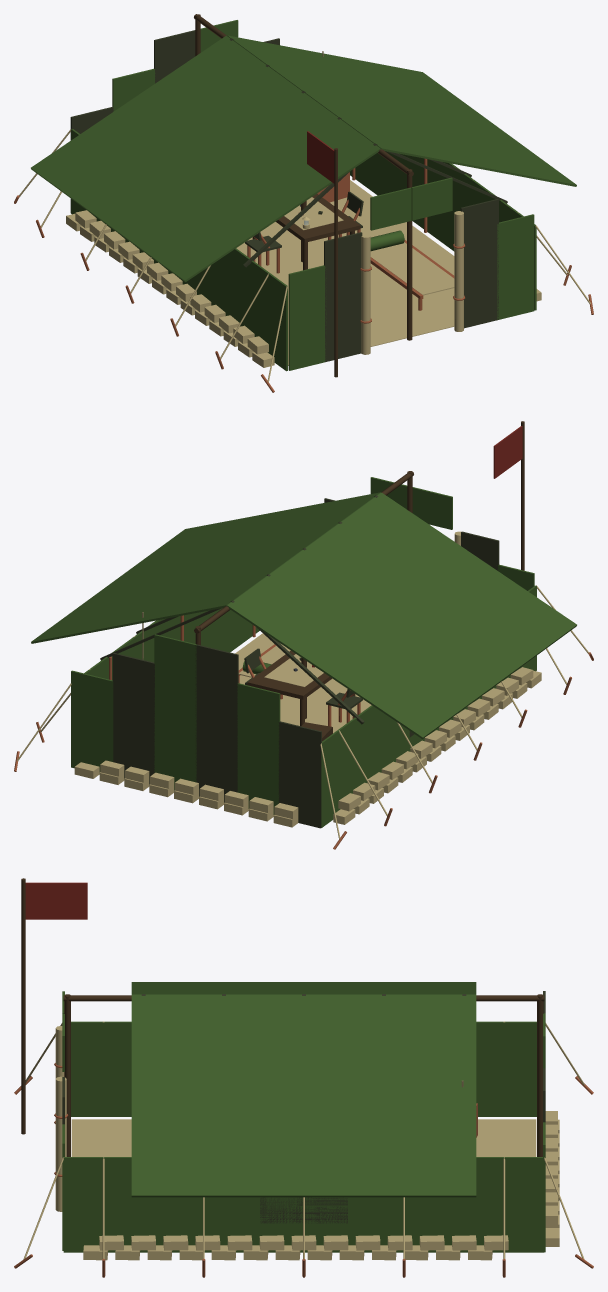
The model's file is military-command-tent.glb.
The picture shows the model from 3 angles, top to bottom: view 1: azimuth 30°, elevation 25°; view 2: azimuth 150°, elevation 25°; view 3: azimuth 270°, elevation 25°; orthographic projection. The views are drawn at different scales.
Visible parts, largest first — view 1: Mesh_RoofA, Mesh_RoofB, Mesh_FloorTarp, Mesh_WallRight, Mesh_WallLeft, Mesh_FrontWallPanel_1, Mesh_FrontWallPanel_2, Mesh_FrontWallPanel_0, Mesh_FrontWallPanel_3, Mesh_CotCanvas, Mesh_BackWallPanel_3, Mesh_FrontGableCenterR (+12 smaller); view 2: Mesh_RoofA, Mesh_RoofB, Mesh_BackWallPanel_2, Mesh_BackWallPanel_3, Mesh_WallRight, Mesh_BackWallPanel_4, Mesh_BackWallPanel_1, Mesh_BackWallPanel_5, Mesh_BackWallPanel_0, Mesh_WallLeft, Mesh_FloorTarp, Mesh_FrontGableCenterR (+7 smaller); view 3: Mesh_RoofB, Mesh_WallLeft, Mesh_WallRight, Mesh_FloorTarp, Mesh_RoofA, Mesh_FlagCanvas, Mesh_WindowHoleLeft, Mesh_FlagPole, Mesh_FrontRollL, Mesh_PoleUprightBack, Mesh_PoleRidge, Mesh_PoleUprightFront.
Boxes of the visible parts, box(x1,y1,x2,y2) form: Mesh_RoofA: box(31, 35, 380, 282); Mesh_RoofB: box(227, 35, 576, 186); Mesh_FloorTarp: box(236, 180, 454, 365); Mesh_WallRight: box(71, 129, 287, 371); Mesh_WallLeft: box(350, 151, 536, 310); Mesh_FrontWallPanel_1: box(460, 199, 498, 328); Mesh_FrontWallPanel_2: box(324, 232, 362, 362); Mesh_FrontWallPanel_0: box(497, 214, 534, 319); Mesh_FrontWallPanel_3: box(288, 265, 326, 370); Mesh_CotCanvas: box(370, 242, 454, 295); Mesh_BackWallPanel_3: box(154, 30, 195, 83); Mesh_FrontGableCenterR: box(370, 187, 411, 230); Mesh_RoofA: box(227, 492, 576, 739); Mesh_RoofB: box(31, 492, 380, 643); Mesh_BackWallPanel_2: box(154, 634, 196, 790); Mesh_BackWallPanel_3: box(195, 644, 238, 802); Mesh_WallRight: box(321, 585, 536, 827); Mesh_BackWallPanel_4: box(237, 683, 280, 814); Mesh_BackWallPanel_1: box(112, 653, 154, 784); Mesh_BackWallPanel_5: box(278, 721, 321, 828); Mesh_BackWallPanel_0: box(71, 670, 113, 772); Mesh_WallLeft: box(84, 608, 259, 680); Mesh_FloorTarp: box(235, 633, 371, 733); Mesh_FrontGableCenterR: box(412, 487, 452, 529); Mesh_RoofB: box(131, 994, 476, 1197); Mesh_WallLeft: box(63, 1157, 544, 1252); Mesh_WallRight: box(71, 1021, 536, 1116); Mesh_FloorTarp: box(71, 1119, 536, 1156); Mesh_RoofA: box(131, 982, 476, 994); Mesh_FlagCanvas: box(25, 882, 87, 919); Mesh_WindowHoleLeft: box(260, 1197, 347, 1223); Mesh_FlagPole: box(21, 878, 25, 1134); Mesh_FrontRollL: box(55, 1076, 66, 1211); Mesh_PoleUprightBack: box(537, 994, 543, 1156); Mesh_PoleRidge: box(63, 995, 544, 1001); Mesh_PoleUprightFront: box(64, 994, 70, 1156).
Bounding box in the file's own units: 6.31 × 3.5 × 7.24.
Materials: 2 (2 with a texture image).
